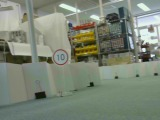speed_10: (52, 48, 70, 66)
